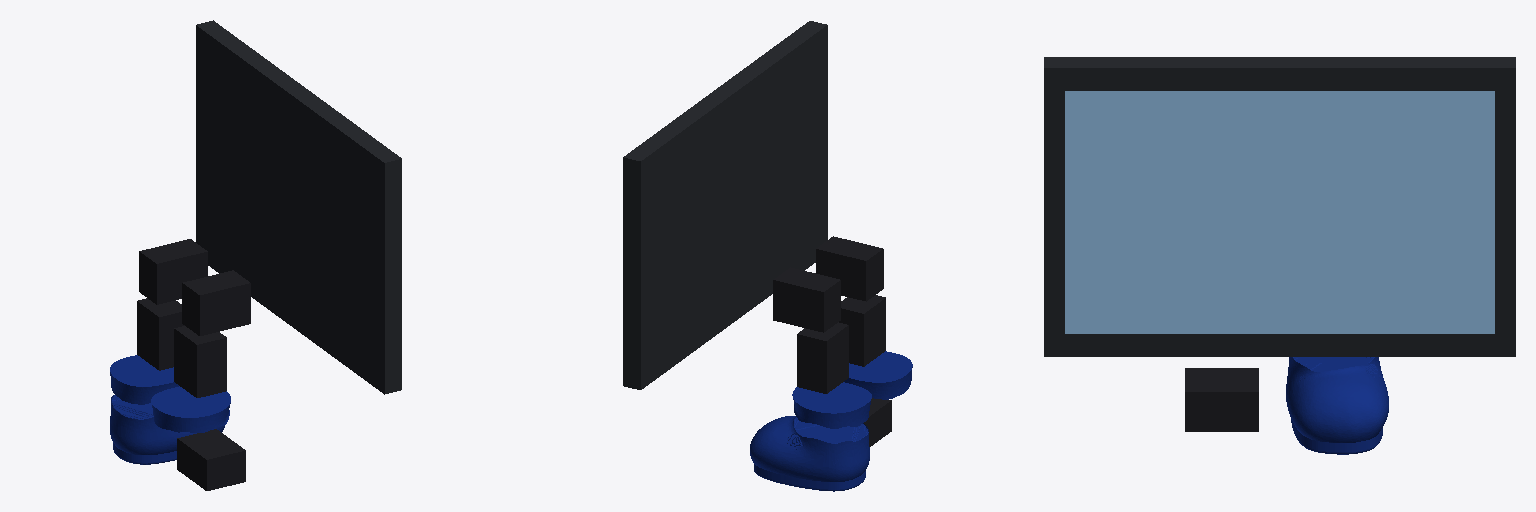
robot.urdf — haetburi:
<?xml version="1.0"?>
<!-- Haetburi biped (v18_xl330) - generated by tools/build_model.py, do not edit by hand -->
<robot name="haetburi">
  <mujoco>
    <compiler meshdir="." balanceinertia="true" discardvisual="false" strippath="false" fusestatic="false"/>
  </mujoco>
  <material name="display"><color rgba="0.18 0.19 0.21 1"/></material>
  <material name="screen"><color rgba="0.62 0.80 0.95 1"/></material>
  <material name="shell"><color rgba="0.106 0.216 0.541 1"/></material>
  <material name="motor"><color rgba="0.15 0.15 0.17 1"/></material>
  <material name="foot"><color rgba="0.25 0.25 0.28 1"/></material>
  <link name="world"/>
  <joint name="floating_base" type="floating">
    <parent link="world"/><child link="pelvis"/>
    <origin xyz="0 0 0" rpy="0 0 0"/>
  </joint>
  <link name="pelvis">
    <inertial>
      <origin xyz="-0.0065972 -8.04014e-05 0.0455082" rpy="0 0 0"/>
      <mass value="0.265174"/>
      <inertia ixx="0.000311449" ixy="1.88697e-07" ixz="9.10121e-05" iyy="0.000392783" iyz="-3.40151e-07" izz="0.000337771"/>
    </inertial>
    <visual><origin xyz="0 0 0" rpy="0 0 0"/><geometry><mesh filename="meshes/pelvis.stl"/></geometry><material name="shell"/></visual>
    <visual><origin xyz="0.0153026 0.0245857 0.0585" rpy="0 0 0"/><geometry><box size="0.034 0.02 0.026"/></geometry><material name="motor"/></visual>
    <visual><origin xyz="0.0152974 -0.024889 0.0585" rpy="0 0 0"/><geometry><box size="0.034 0.02 0.026"/></geometry><material name="motor"/></visual>
    <collision><origin xyz="0.0074988 -0.000146911 0.0267541" rpy="0 0 0"/><geometry><box size="0.089907 0.119391 0.0514117"/></geometry></collision>
  </link>
  <link name="torso">
    <inertial>
      <origin xyz="0.0209973 0.000105379 0.131628" rpy="0 0 0"/>
      <mass value="2.15535"/>
      <inertia ixx="0.0354852" ixy="-0.000105161" ixz="0.0063203" iyy="0.0356991" iyz="-0.000100818" izz="0.0195041"/>
    </inertial>
    <visual><origin xyz="0 0 0" rpy="0 0 0"/><geometry><mesh filename="meshes/torso.stl"/></geometry><material name="shell"/></visual>
    <visual><origin xyz="0.0843686 0 0.0406669" rpy="0 0 0"/><geometry><box size="0.011868 0.217236 0.146854"/></geometry><material name="display"/></visual>
    <visual><origin xyz="0.0903026 0 0.0406669" rpy="0 0 0"/><geometry><box size="0.0004 0.198144 0.12384"/></geometry><material name="screen"/></visual>
    <collision><origin xyz="-0.0391719 -1.82352e-06 0.0288995" rpy="0 0 0"/><geometry><box size="0.183869 0.124676 0.122779"/></geometry></collision>
    <collision><origin xyz="0.0478332 0.0965728 0.0582346" rpy="0 0 0"/><geometry><sphere radius="0.0698567"/></geometry></collision>
    <collision><origin xyz="0.0481639 -0.0967208 0.0582346" rpy="0 0 0"/><geometry><sphere radius="0.0697895"/></geometry></collision>
    <collision><origin xyz="-0.00600387 0.000307043 0.117894" rpy="0 0 0"/><geometry><sphere radius="0.119818"/></geometry></collision>
    <collision><origin xyz="-0.010462 -0.000141163 0.173068" rpy="0 0 0"/><geometry><sphere radius="0.138234"/></geometry></collision>
    <collision><origin xyz="-0.0159306 -0.000232984 0.22825" rpy="0 0 0"/><geometry><sphere radius="0.136633"/></geometry></collision>
    <collision><origin xyz="-0.0124975 0.000984204 0.28343" rpy="0 0 0"/><geometry><sphere radius="0.118808"/></geometry></collision>
    <collision><origin xyz="-0.00739515 0.00779025 0.338644" rpy="0 0 0"/><geometry><sphere radius="0.0846824"/></geometry></collision>
    <collision><origin xyz="-0.0135526 -0.00257485 0.393809" rpy="0 0 0"/><geometry><sphere radius="0.0491437"/></geometry></collision>
    <collision><origin xyz="0.0843686 0 0.0406669" rpy="0 0 0"/><geometry><box size="0.011868 0.217236 0.146854"/></geometry></collision>
  </link>
  <link name="leg_l">
    <inertial>
      <origin xyz="-0.00287158 0.00275642 -0.0246864" rpy="0 0 0"/>
      <mass value="0.0382123"/>
      <inertia ixx="1.26792e-05" ixy="1.57448e-08" ixz="7.7129e-07" iyy="1.16236e-05" iyz="6.83167e-08" izz="7.82058e-06"/>
    </inertial>
    <visual><origin xyz="0 0 0" rpy="0 0 0"/><geometry><mesh filename="meshes/leg_l.stl"/></geometry><material name="shell"/></visual>
    <collision><origin xyz="-0.00650057 0.00299216 -0.0208409" rpy="0 0 0"/><geometry><box size="0.0468988 0.0429672 0.0122817"/></geometry></collision>
  </link>
  <link name="hip_l">
    <inertial>
      <origin xyz="0 -0.0025438 0.0216296" rpy="0 0 0"/>
      <mass value="0.0258671"/>
      <inertia ixx="2.96738e-06" ixy="0" ixz="0" iyy="2.54106e-06" iyz="5.05018e-08" izz="1.62632e-06"/>
    </inertial>
    <visual><origin xyz="0 -0.003 0.0235" rpy="0 0 0"/><geometry><box size="0.02 0.026 0.034"/></geometry><material name="motor"/></visual>
  </link>
  <link name="foot_l">
    <inertial>
      <origin xyz="0.000570459 0.00729492 -0.00247672" rpy="0 0 0"/>
      <mass value="0.0748228"/>
      <inertia ixx="1.96951e-05" ixy="-9.29192e-07" ixz="-2.12843e-07" iyy="2.7127e-05" iyz="-1.3687e-06" izz="3.21932e-05"/>
    </inertial>
    <visual><origin xyz="0 0 0" rpy="0 0 0"/><geometry><mesh filename="meshes/foot_l.stl"/></geometry><material name="shell"/></visual>
    <visual><origin xyz="0 0.0088 5.38845e-19" rpy="0 0 0"/><geometry><box size="0.026 0.034 0.02"/></geometry><material name="motor"/></visual>
    <collision><origin xyz="0 0 0" rpy="0 0 0"/><geometry><mesh filename="meshes/foot_l.stl"/></geometry></collision>
  </link>
  <link name="leg_r">
    <inertial>
      <origin xyz="-0.00280922 -0.00273637 -0.0246454" rpy="0 0 0"/>
      <mass value="0.038332"/>
      <inertia ixx="1.27161e-05" ixy="-4.27656e-08" ixz="7.71815e-07" iyy="1.1545e-05" iyz="-7.23315e-08" izz="7.83252e-06"/>
    </inertial>
    <visual><origin xyz="0 0 0" rpy="0 0 0"/><geometry><mesh filename="meshes/leg_r.stl"/></geometry><material name="shell"/></visual>
    <collision><origin xyz="-0.00649864 -0.00298757 -0.0207621" rpy="0 0 0"/><geometry><box size="0.0468608 0.0430498 0.0121242"/></geometry></collision>
  </link>
  <link name="hip_r">
    <inertial>
      <origin xyz="0 0.0025438 0.0216296" rpy="0 0 0"/>
      <mass value="0.0258671"/>
      <inertia ixx="2.96738e-06" ixy="0" ixz="0" iyy="2.54106e-06" iyz="-5.05018e-08" izz="1.62632e-06"/>
    </inertial>
    <visual><origin xyz="0 0.003 0.0235" rpy="0 0 0"/><geometry><box size="0.02 0.026 0.034"/></geometry><material name="motor"/></visual>
  </link>
  <link name="foot_r">
    <inertial>
      <origin xyz="0.000927024 -0.00706758 -0.0025199" rpy="0 0 0"/>
      <mass value="0.0746564"/>
      <inertia ixx="1.95107e-05" ixy="1.01942e-06" ixz="-2.354e-07" iyy="2.70292e-05" iyz="1.32726e-06" izz="3.20543e-05"/>
    </inertial>
    <visual><origin xyz="0 0 0" rpy="0 0 0"/><geometry><mesh filename="meshes/foot_r.stl"/></geometry><material name="shell"/></visual>
    <visual><origin xyz="0 -0.0088 5.38845e-19" rpy="0 0 0"/><geometry><box size="0.026 0.034 0.02"/></geometry><material name="motor"/></visual>
    <collision><origin xyz="0 0 0" rpy="0 0 0"/><geometry><mesh filename="meshes/foot_r.stl"/></geometry></collision>
  </link>
  <joint name="waist_fixed" type="fixed">
    <parent link="pelvis"/><child link="torso"/>
    <origin xyz="0 0 0.05246" rpy="0 0 0"/>
  </joint>
  <joint name="hip_yaw_l" type="revolute">
    <parent link="pelvis"/><child link="hip_l"/>
    <origin xyz="0.00650265 0.0245857 0" rpy="0 0 0"/>
    <axis xyz="0 0 1"/>
    <limit lower="-0.401426" upper="0.401426" effort="0.52" velocity="10.79"/>
    <dynamics damping="0.037142857142857144" friction="0.014857142857142859"/>
  </joint>
  <joint name="hip_pitch_l" type="revolute">
    <parent link="hip_l"/><child link="leg_l"/>
    <origin xyz="0 -0.003 0.0147" rpy="0 0 0"/>
    <axis xyz="0 1 0"/>
    <limit lower="-0.523599" upper="0.418879" effort="0.52" velocity="10.79"/>
    <dynamics damping="0.037142857142857144" friction="0.014857142857142859"/>
  </joint>
  <joint name="hip_yaw_r" type="revolute">
    <parent link="pelvis"/><child link="hip_r"/>
    <origin xyz="0.00649735 -0.024889 0" rpy="0 0 0"/>
    <axis xyz="0 0 1"/>
    <limit lower="-0.401426" upper="0.401426" effort="0.52" velocity="10.79"/>
    <dynamics damping="0.037142857142857144" friction="0.014857142857142859"/>
  </joint>
  <joint name="hip_pitch_r" type="revolute">
    <parent link="hip_r"/><child link="leg_r"/>
    <origin xyz="0 0.003 0.0147" rpy="0 0 0"/>
    <axis xyz="0 1 0"/>
    <limit lower="-0.523599" upper="0.418879" effort="0.52" velocity="10.79"/>
    <dynamics damping="0.037142857142857144" friction="0.014857142857142859"/>
  </joint>
  <joint name="ankle_roll_l" type="revolute">
    <parent link="leg_l"/><child link="foot_l"/>
    <origin xyz="0.00518133 -0.00442343 -0.05394" rpy="0 0 0"/>
    <axis xyz="1 0 0"/>
    <limit lower="-0.261799" upper="0.261799" effort="0.52" velocity="10.79"/>
    <dynamics damping="0.037142857142857144" friction="0.014857142857142859"/>
  </joint>
  <joint name="ankle_roll_r" type="revolute">
    <parent link="leg_r"/><child link="foot_r"/>
    <origin xyz="0.00444167 0.00399945 -0.05394" rpy="0 0 0"/>
    <axis xyz="1 0 0"/>
    <limit lower="-0.261799" upper="0.261799" effort="0.52" velocity="10.79"/>
    <dynamics damping="0.037142857142857144" friction="0.014857142857142859"/>
  </joint>
</robot>

--- What the picture shows (computed from the rendered views, not written in the file) ---
3 views of the same robot in one strip: view 1: azimuth 30°, elevation 25°; view 2: azimuth 150°, elevation 25°; view 3: azimuth 270°, elevation 25° (orthographic).
Model haetburi with 9 links and 8 joints (6 revolute, 1 fixed, 1 floating), rooted at world, posed all joints at 0.
Visible links, largest first — view 1: torso, pelvis, foot_l, foot_r, hip_r, leg_r, hip_l, leg_l; view 2: torso, foot_l, pelvis, hip_l, leg_l, hip_r, leg_r, foot_r; view 3: torso, foot_l, foot_r.
Link boxes in pixels (x1,y1,x2,y2): torso: [196, 20, 401, 394]; pelvis: [139, 239, 250, 335]; foot_l: [110, 395, 224, 464]; foot_r: [177, 429, 245, 490]; hip_r: [174, 326, 226, 397]; leg_r: [151, 386, 230, 432]; hip_l: [137, 298, 184, 370]; leg_l: [110, 355, 178, 404]; torso: [623, 21, 827, 389]; foot_l: [750, 416, 869, 491]; pelvis: [773, 236, 883, 332]; hip_l: [797, 322, 848, 393]; leg_l: [792, 382, 871, 428]; hip_r: [839, 295, 885, 366]; leg_r: [844, 351, 912, 399]; foot_r: [864, 398, 891, 446]; torso: [1044, 57, 1515, 356]; foot_l: [1286, 357, 1388, 454]; foot_r: [1185, 368, 1258, 431].
Bounding box of the posed robot: 0.1139 × 0.2172 × 0.2182 m (x, y, z).
3 mesh visuals loaded from 6 distinct referenced files (3 binary STL); not drawn: 3 (reference not matched to a file when rendering).
